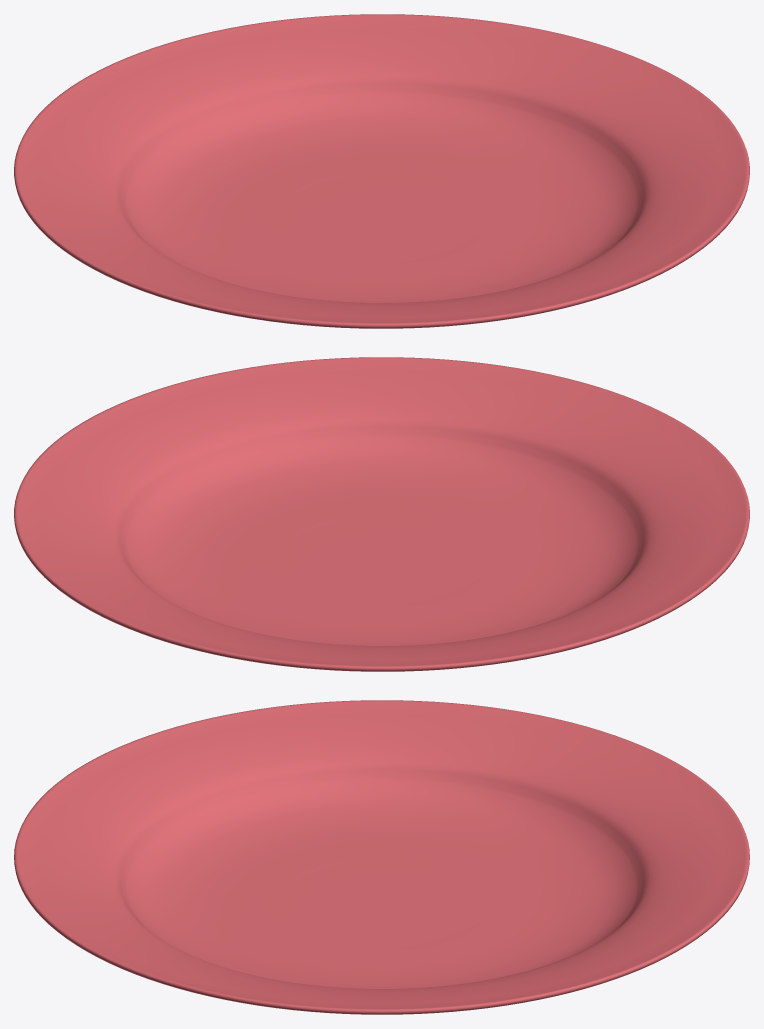
File: rose-plate.glb
3 renders of one model, top to bottom at view 1: azimuth 30°, elevation 25°; view 2: azimuth 150°, elevation 25°; view 3: azimuth 270°, elevation 25°, orthographic.
Parts seen in each view (by area): view 1: rose-plate; view 2: rose-plate; view 3: rose-plate.
Boxes of the visible parts, x1,y1,x2,y2 form: rose-plate: [14, 14, 749, 328]; rose-plate: [14, 357, 749, 671]; rose-plate: [14, 700, 749, 1014].
Bounding box in the file's own units: 0.2203 × 0.0238 × 0.2203.
1 material, 1 textured.
